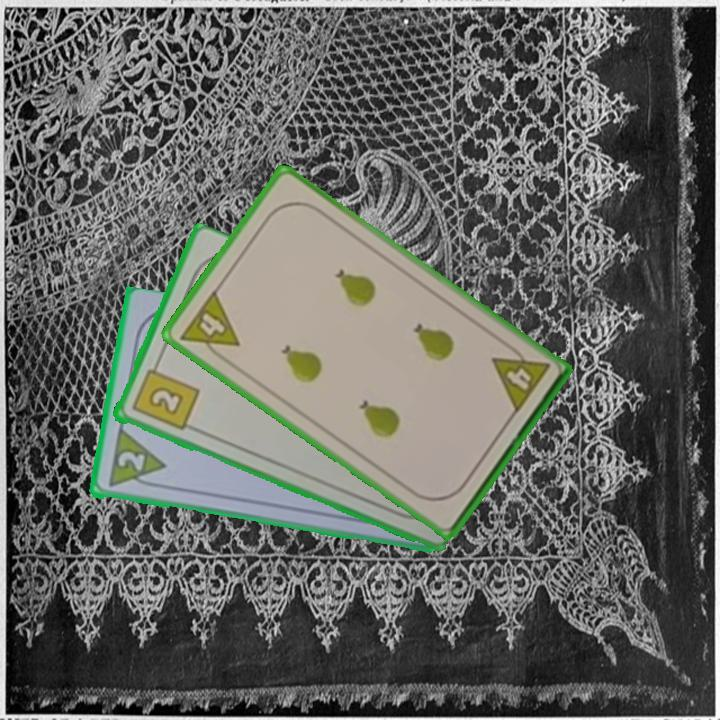2b: (128, 358, 201, 434)
2p: (113, 448, 148, 474)
4p: (176, 286, 243, 366), (488, 339, 552, 417)
